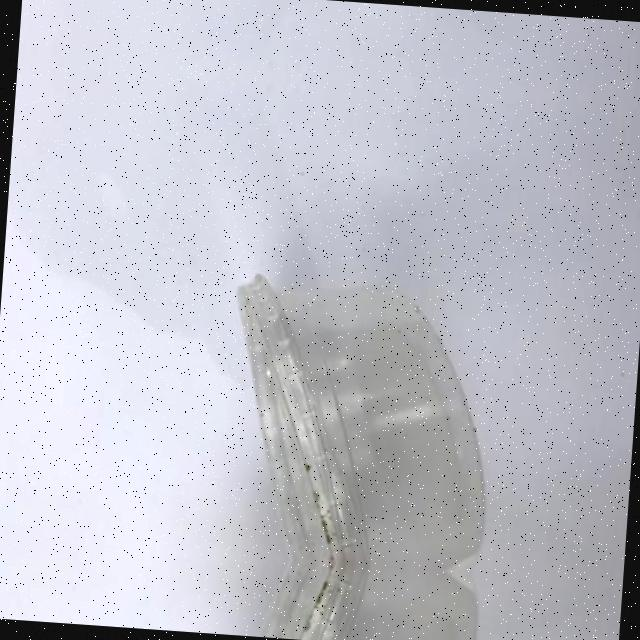Plastic: (164, 228, 590, 578), (159, 549, 568, 640)
